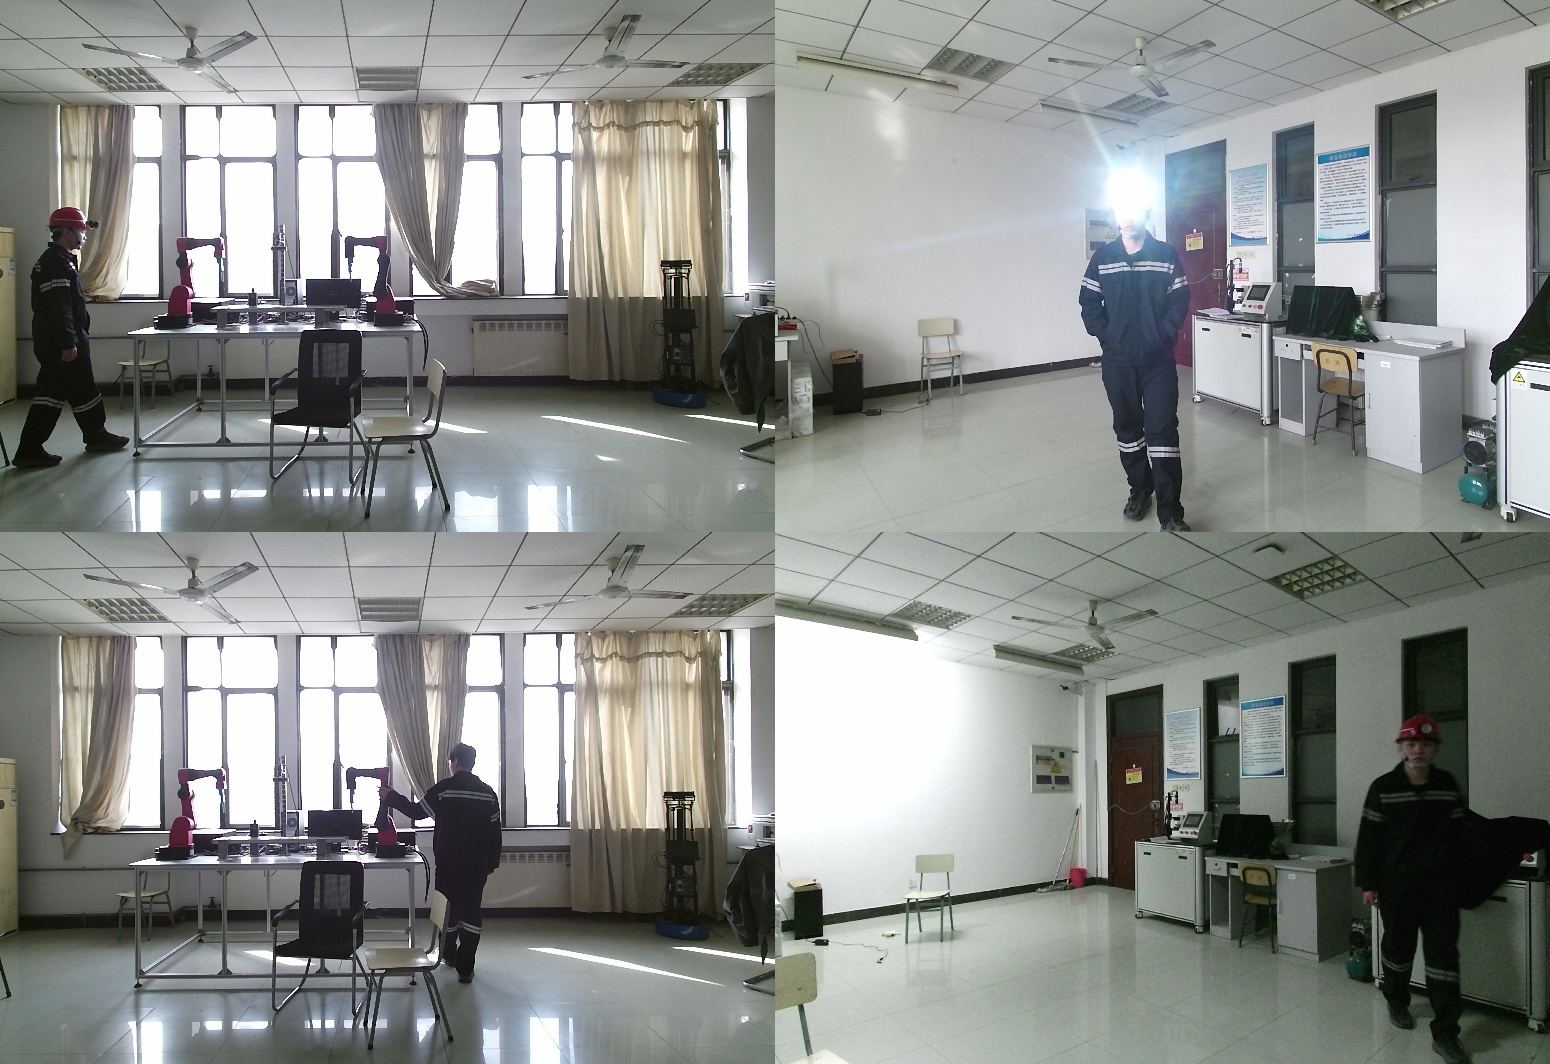person: (1078, 182, 1207, 532), (1354, 719, 1478, 1050), (12, 207, 130, 467), (390, 747, 508, 982)
